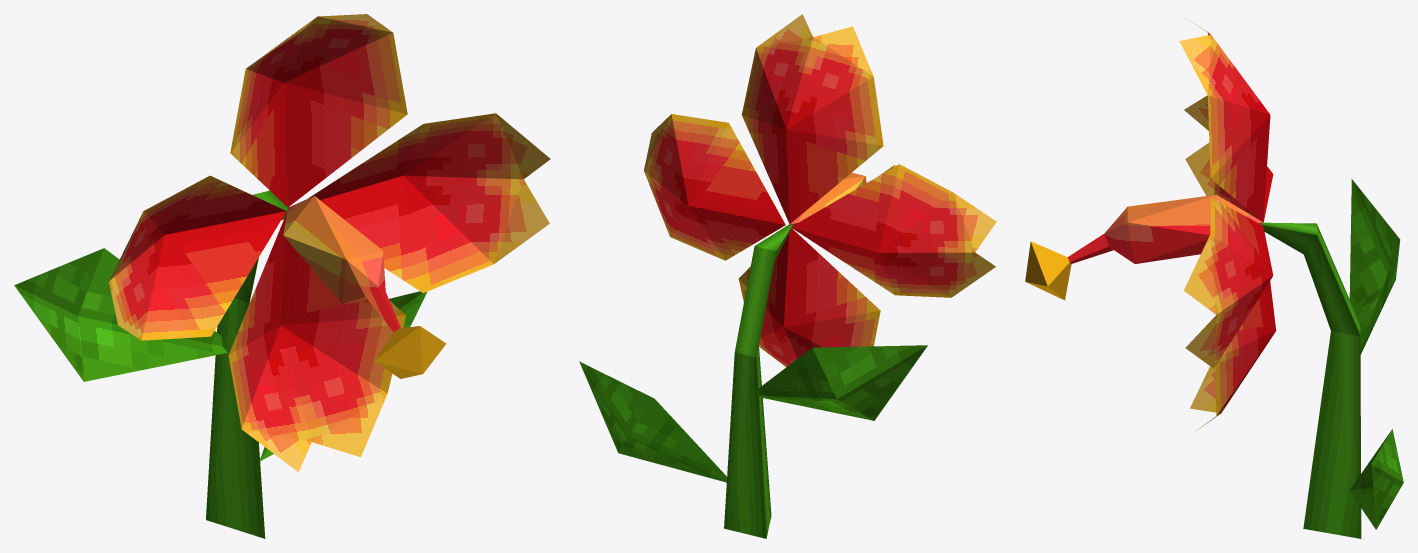
File: SouthernFlower.obj
3 renders of one model, left to right at view 1: azimuth 30°, elevation 25°; view 2: azimuth 150°, elevation 25°; view 3: azimuth 270°, elevation 25°, orthographic. The views are drawn at different scales.
Parts seen in each view (by area): view 1: Inst3D_RefRep.283; view 2: Inst3D_RefRep.283; view 3: Inst3D_RefRep.283.
Part boxes in pixels (x1,y1,x2,y2): Inst3D_RefRep.283: (14,14,550,538); Inst3D_RefRep.283: (579,14,996,538); Inst3D_RefRep.283: (1025,18,1403,538).
Bounding box in the file's own units: 2.05 × 2.52 × 1.72.
